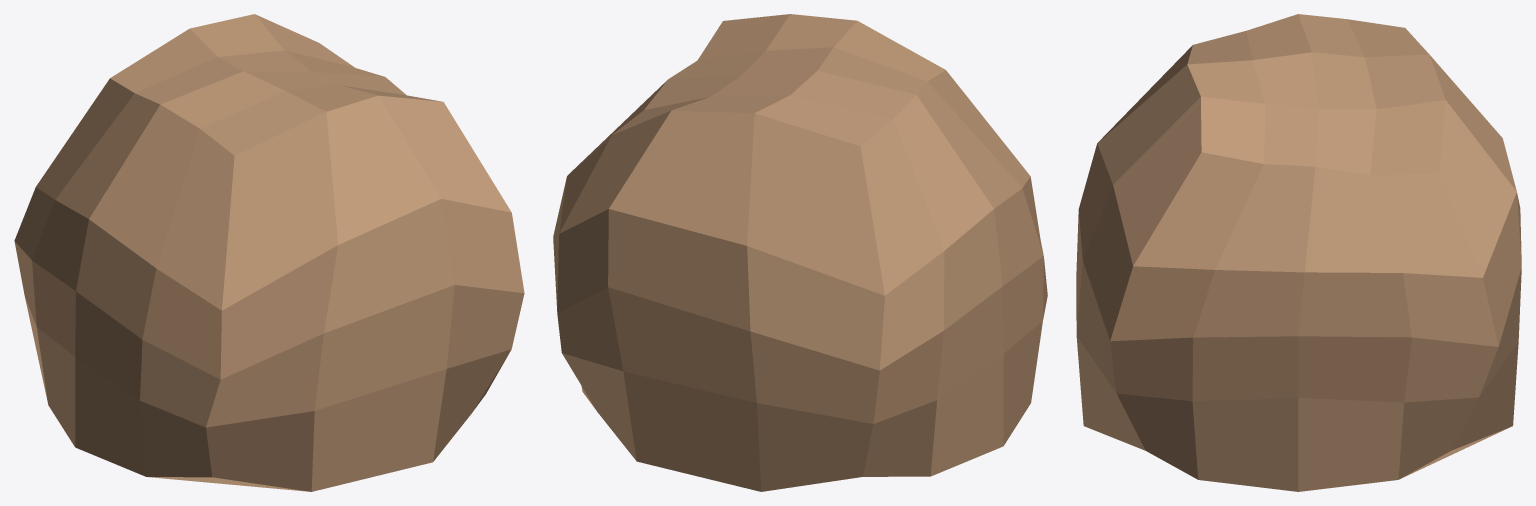
The model's file is sand.glb.
The picture shows the model from 3 angles, left to right: view 1: azimuth 30°, elevation 25°; view 2: azimuth 150°, elevation 25°; view 3: azimuth 270°, elevation 25°; orthographic projection. The views are drawn at different scales.
Visible parts, largest first — view 1: Sand; view 2: Sand; view 3: Sand.
Boxes of the visible parts, box(x1,y1,x2,y2) form: Sand: box(14, 14, 524, 491); Sand: box(553, 14, 1047, 491); Sand: box(1076, 14, 1521, 491).
Bounding box in the file's own units: 2.01 × 1.64 × 1.97.
1 material, 1 textured.
